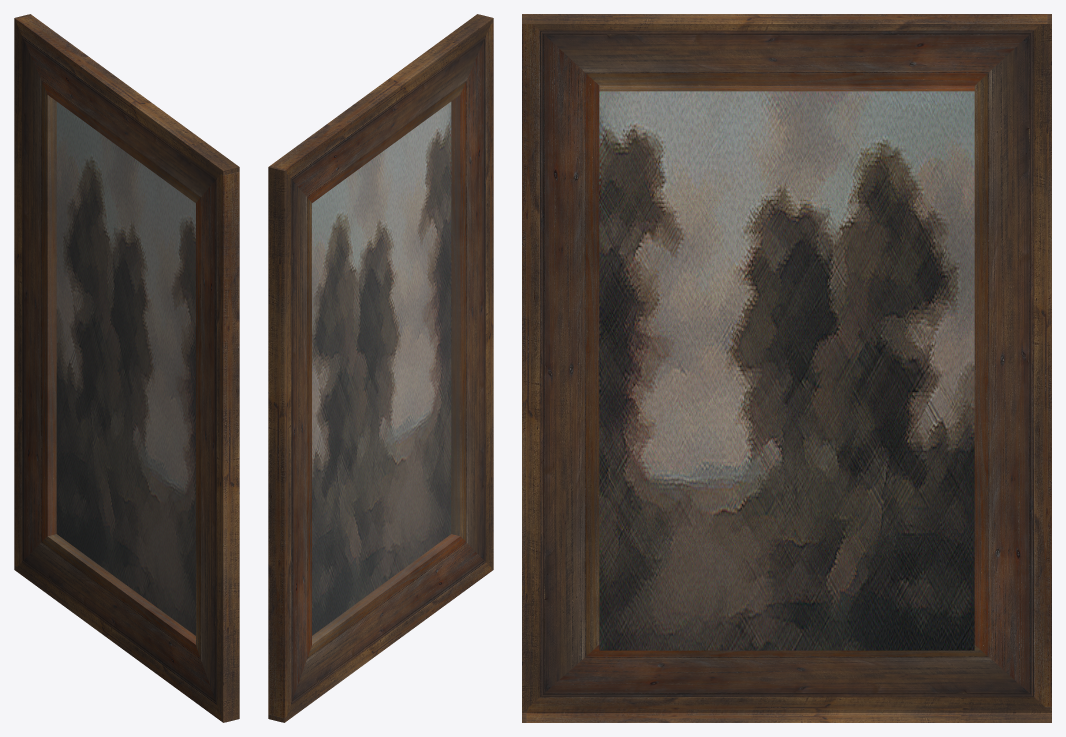
Rendered from Painting_D.fbx.
3 renders of one model, left to right at view 1: azimuth 30°, elevation 25°; view 2: azimuth 150°, elevation 25°; view 3: azimuth 270°, elevation 25°, orthographic. The views are drawn at different scales.
Visible parts, largest first — view 1: Painting_D; view 2: Painting_D; view 3: Painting_D.
Part boxes in pixels (x1,y1,x2,y2): Painting_D: (14,14,239,722); Painting_D: (268,14,493,722); Painting_D: (522,14,1051,722).
Bounding box in the file's own units: 3.63 × 118 × 80.81.
2 materials, 1 textured.
